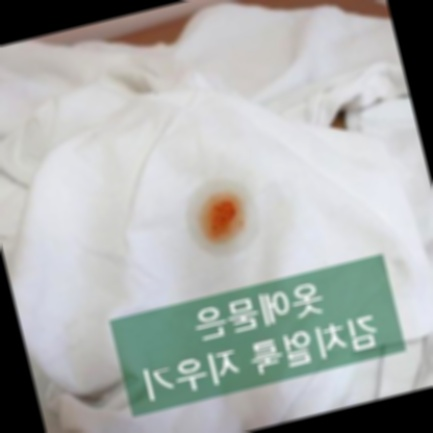kimchi: (192, 178, 260, 251)
